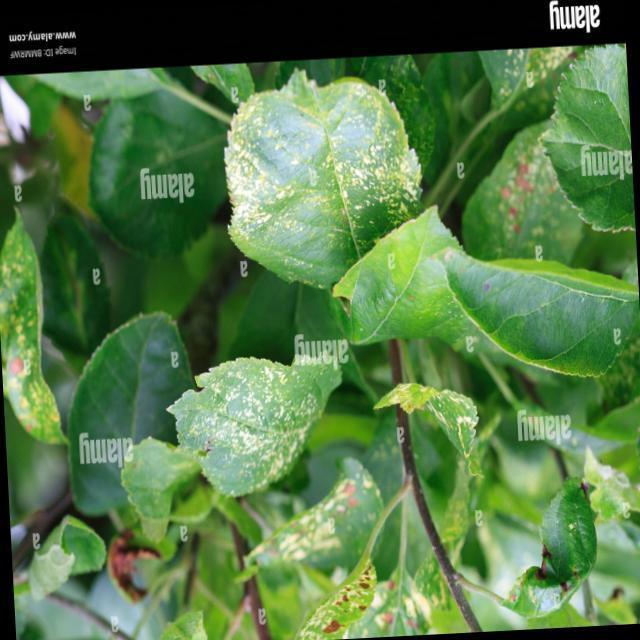Mosaic Virus: (219, 77, 432, 244), (0, 231, 61, 431), (200, 370, 317, 472), (488, 146, 575, 262), (272, 506, 351, 562)
